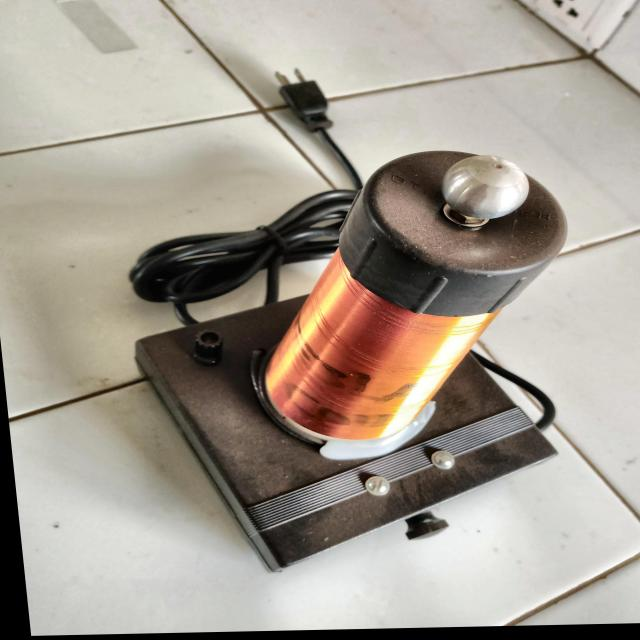Tesla Coil: (88, 142, 620, 572)
